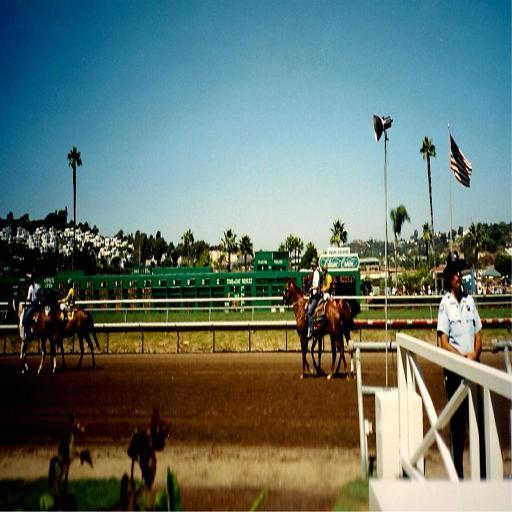Horse: (281, 278, 352, 377), (6, 286, 63, 378), (58, 300, 102, 368)
